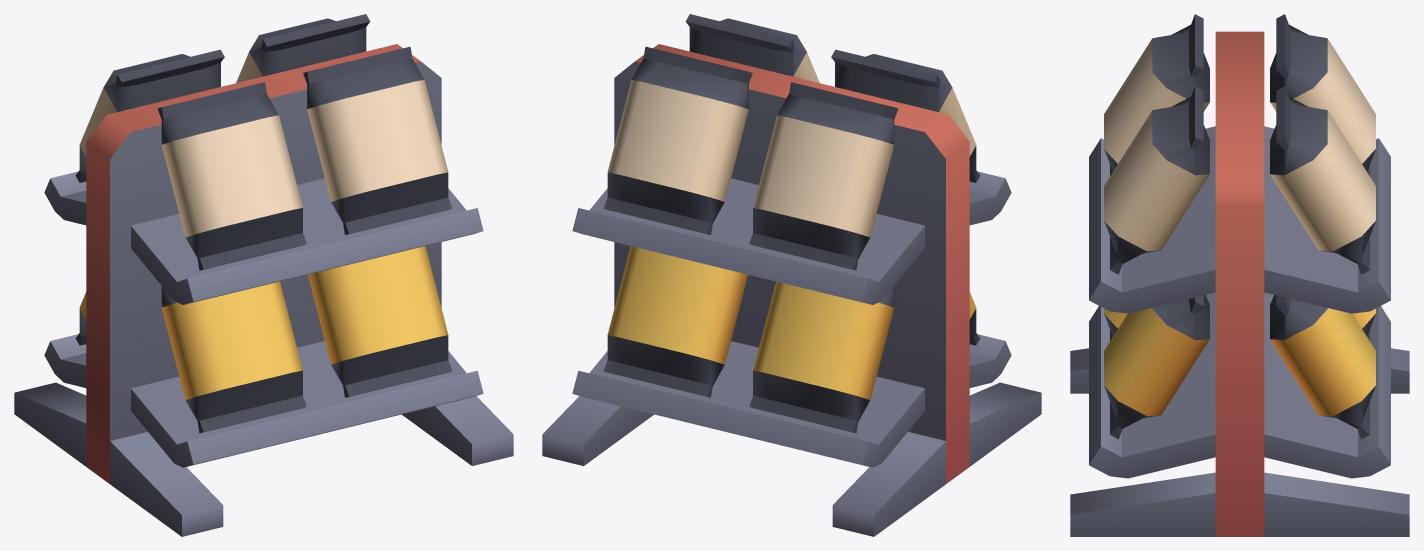
Rendered from shelf-bags.obj.
3 views of the same model, side by side, from view 1: azimuth 30°, elevation 25°; view 2: azimuth 150°, elevation 25°; view 3: azimuth 270°, elevation 25° (orthographic).
Visible parts, largest first — view 1: bag, shelf-bags; view 2: bag, shelf-bags; view 3: shelf-bags, bag.
Boxes of the visible parts, x1=… form: bag: x1=75, y1=14, x2=452, y2=433; shelf-bags: x1=14, y1=44, x2=513, y2=536; bag: x1=603, y1=14, x2=980, y2=433; shelf-bags: x1=542, y1=44, x2=1041, y2=536; shelf-bags: x1=1070, y1=31, x2=1409, y2=536; bag: x1=1104, y1=14, x2=1375, y2=439.
Size of the model in its own units: 0.8 by 0.8634 by 0.7.
